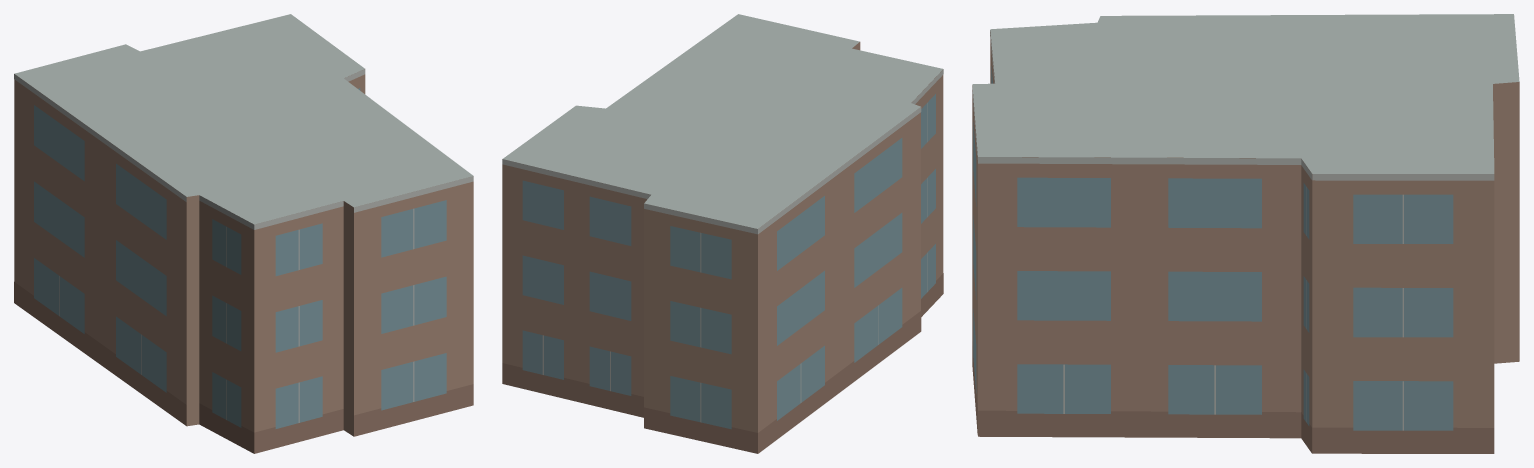
Rendered from survey-upis-32486845.glb.
3 views of the same model, side by side, from view 1: azimuth 30°, elevation 25°; view 2: azimuth 150°, elevation 25°; view 3: azimuth 270°, elevation 25° (orthographic). The views are drawn at different scales.
Visible parts, largest first — view 1: survey-upis-32486845.tmp; view 2: survey-upis-32486845.tmp; view 3: survey-upis-32486845.tmp.
Part boxes in pixels (bbox=[...]): survey-upis-32486845.tmp: bbox=[14, 14, 473, 453]; survey-upis-32486845.tmp: bbox=[502, 14, 943, 453]; survey-upis-32486845.tmp: bbox=[972, 14, 1519, 453].
Size of the model in its own units: 12.52 by 10.2 by 18.09.
